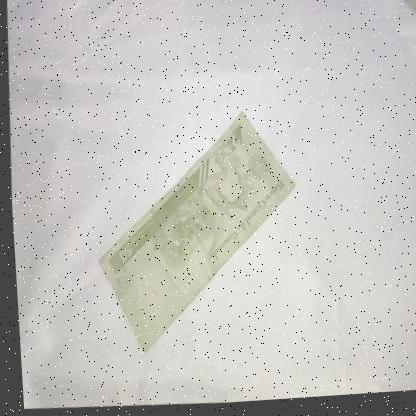fifty-back-vef: (84, 105, 302, 363)
